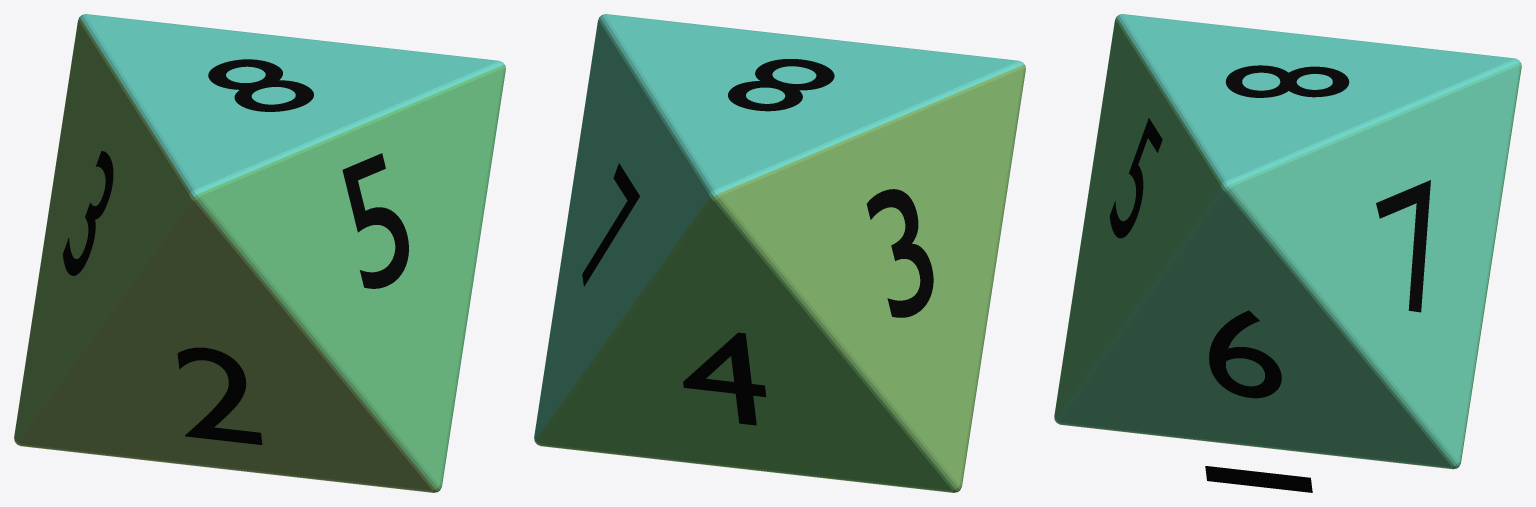
3 renders of one model, left to right at view 1: azimuth 30°, elevation 25°; view 2: azimuth 150°, elevation 25°; view 3: azimuth 270°, elevation 25°, orthographic. The views are drawn at different scales.
Visible parts, largest first — view 1: d8, d8_num; view 2: d8, d8_num; view 3: d8, d8_num.
Boxes of the visible parts, bbox=[...] form: d8: bbox=[14, 14, 505, 492]; d8_num: bbox=[62, 59, 408, 444]; d8: bbox=[534, 14, 1025, 492]; d8_num: bbox=[582, 59, 933, 425]; d8: bbox=[1054, 14, 1521, 469]; d8_num: bbox=[1109, 65, 1430, 492].
Size of the model in its own units: 2.19 by 1.87 by 2.19.
